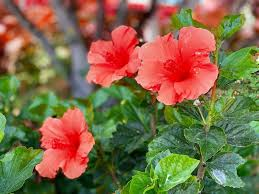hybiscus: (39, 110, 94, 180)
